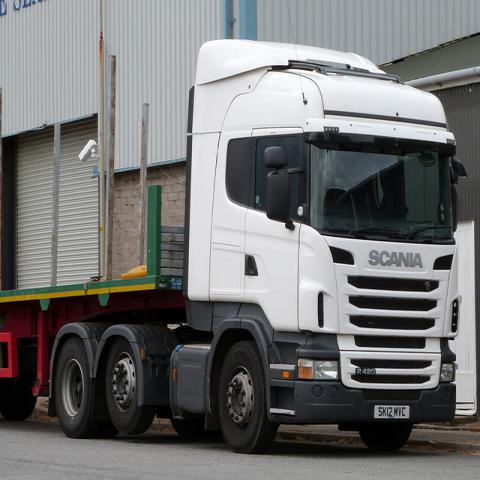truck: (1, 39, 466, 454)
